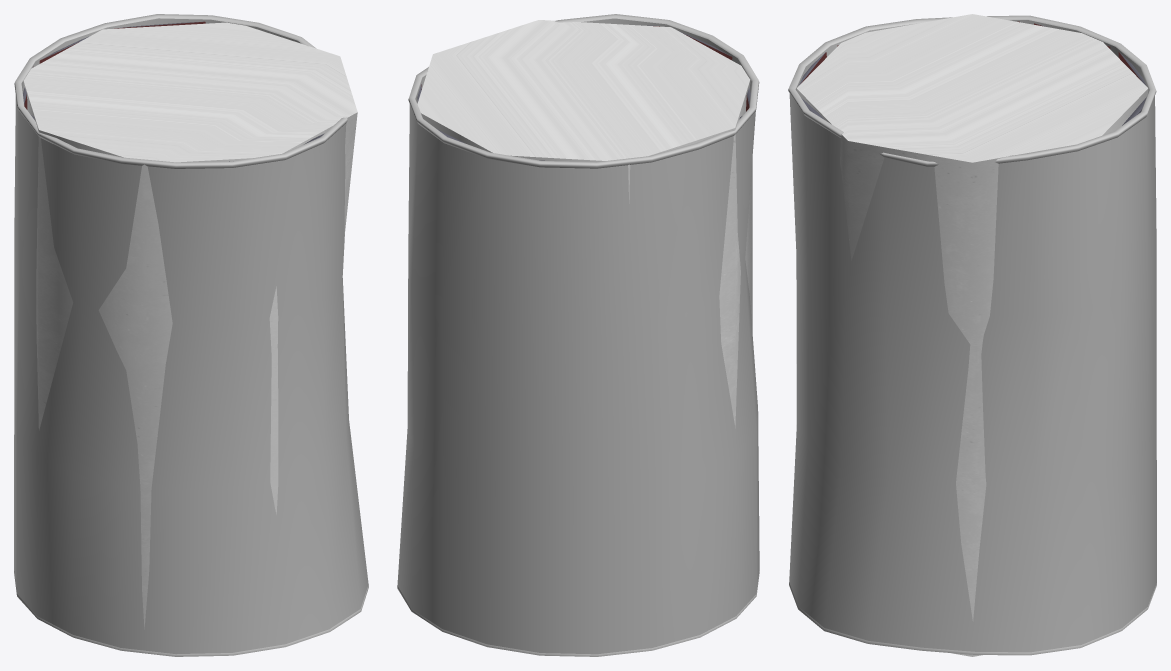
The model's file is si_drum_old_b.DAE.
3 views of the same model, side by side, from view 1: azimuth 30°, elevation 25°; view 2: azimuth 150°, elevation 25°; view 3: azimuth 270°, elevation 25° (orthographic).
Parts seen in each view (by area): view 1: si_drum_old_b60, Colmesh-1, si_drum_old_b110; view 2: si_drum_old_b60, Colmesh-1, si_drum_old_b110; view 3: si_drum_old_b60, Colmesh-1, si_drum_old_b110, si_drum_old_b30.
Part boxes in pixels (left/top/right/bottom): si_drum_old_b60: left=14, top=95, right=368, bottom=654; Colmesh-1: left=23, top=22, right=357, bottom=629; si_drum_old_b110: left=14, top=14, right=368, bottom=656; si_drum_old_b60: left=397, top=104, right=759, bottom=654; Colmesh-1: left=417, top=20, right=752, bottom=428; si_drum_old_b110: left=397, top=14, right=759, bottom=656; si_drum_old_b60: left=789, top=93, right=1156, bottom=652; Colmesh-1: left=796, top=14, right=1148, bottom=656; si_drum_old_b110: left=788, top=15, right=1156, bottom=655; si_drum_old_b30: left=798, top=21, right=1146, bottom=125.
Bounding box in the file's own units: 56.51 × 58.78 × 87.47.
